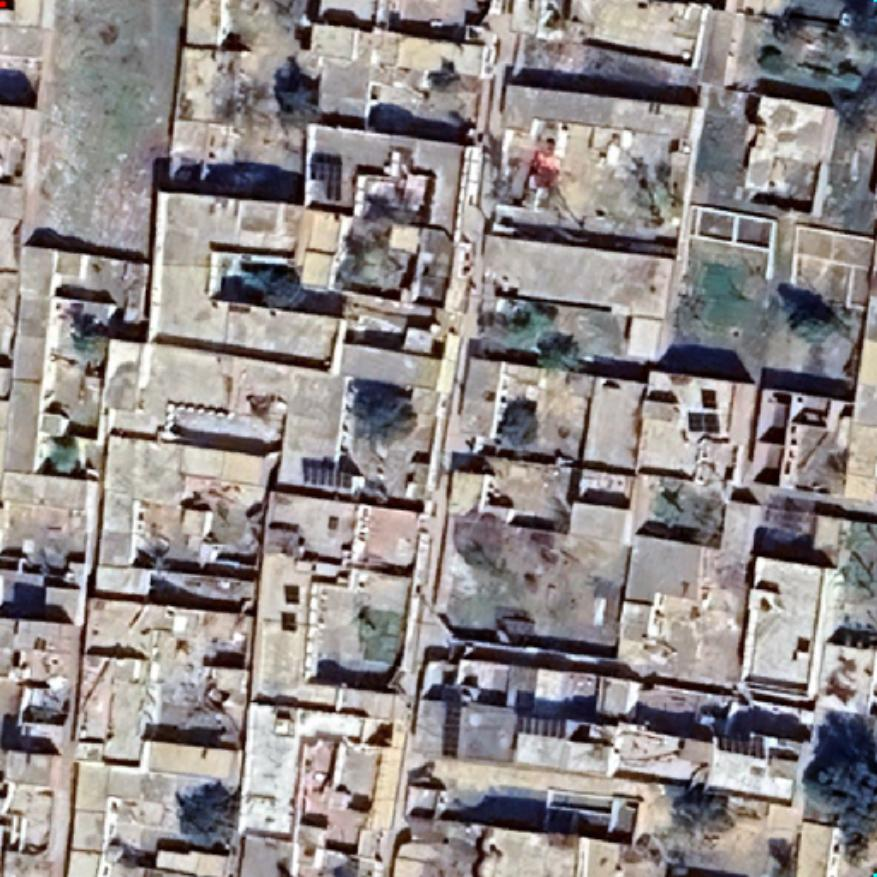Solarpanel: (298, 456, 358, 494), (307, 151, 347, 203), (684, 408, 724, 436), (699, 386, 721, 410)
